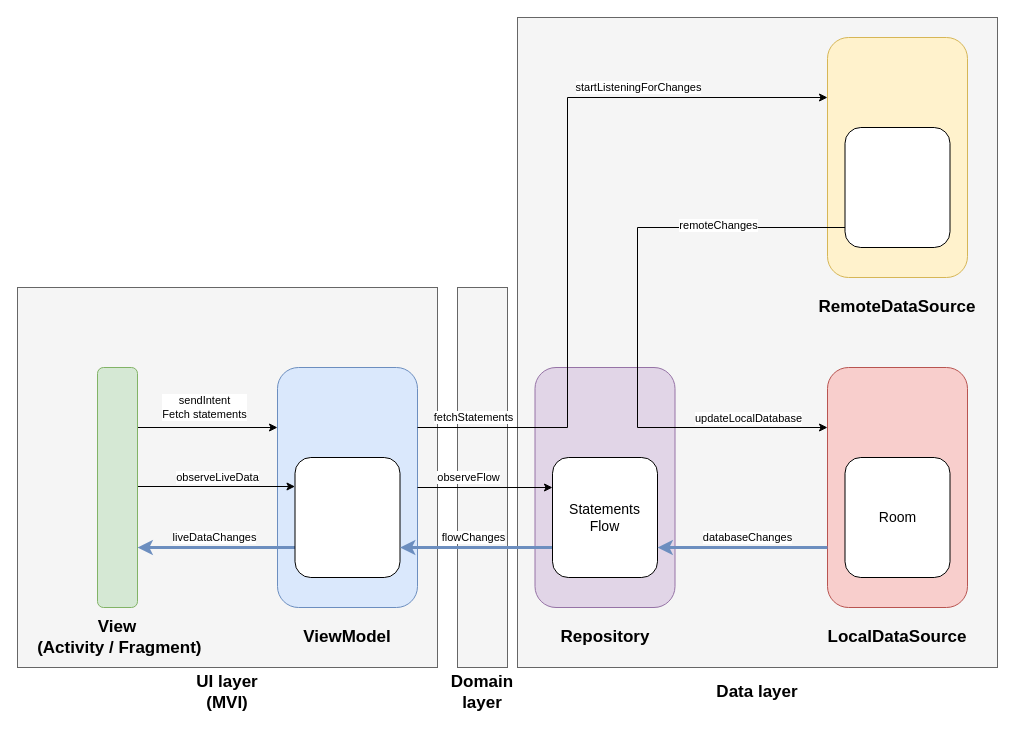
Some shapes in this 1015 by 750 pixel diagram are drawn without their labels. Each missing label, with the box of its shape:
Cloudstore Statements Database: (844, 126, 950, 248)
Statements LiveData: (294, 456, 400, 578)
